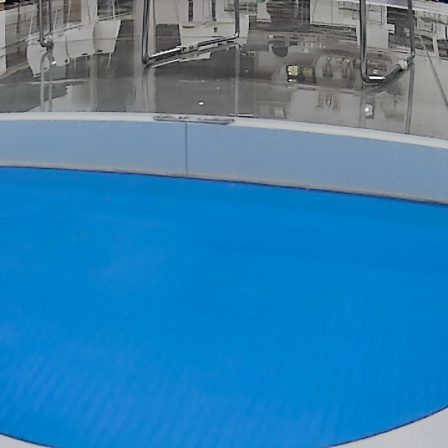blue_base: (2, 168, 447, 447)
